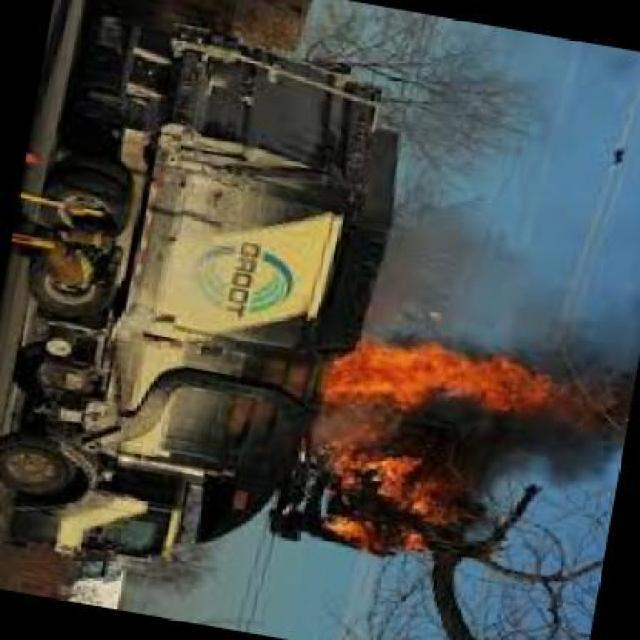Fire: (319, 442, 474, 582), (319, 341, 563, 428)
Smoke: (369, 207, 636, 347), (447, 426, 636, 544)
